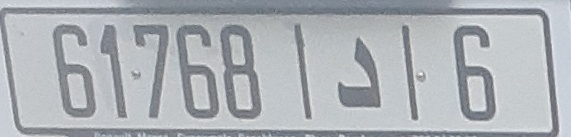1: (97, 22, 130, 119)
6: (450, 22, 500, 123), (51, 22, 98, 120), (175, 22, 220, 120)
7: (132, 21, 172, 119)
8: (218, 24, 264, 121)
d: (334, 36, 384, 111)
